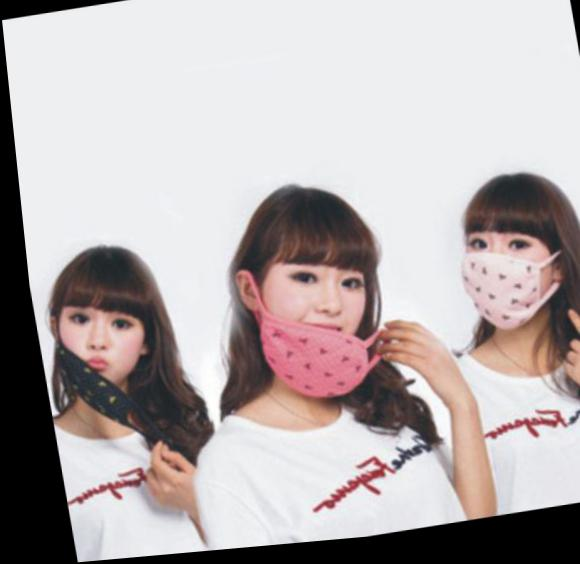OK: (443, 224, 559, 338)
WRONG: (254, 257, 370, 373), (44, 299, 143, 400)
